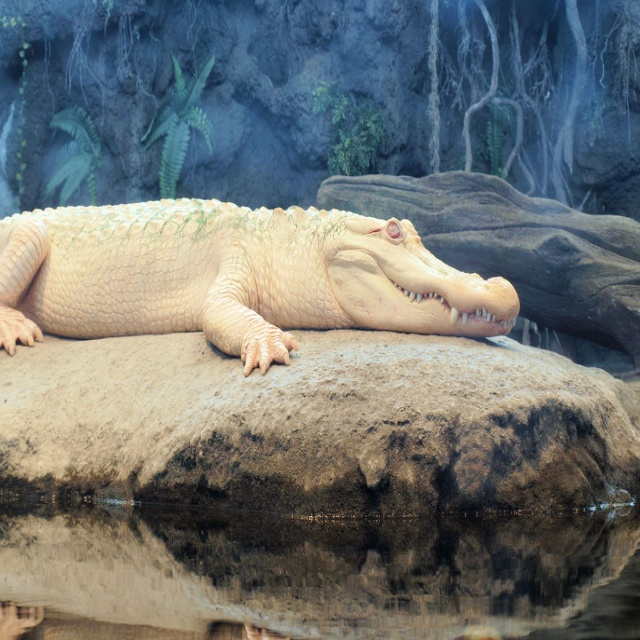Crocodile: (0, 196, 520, 378)
